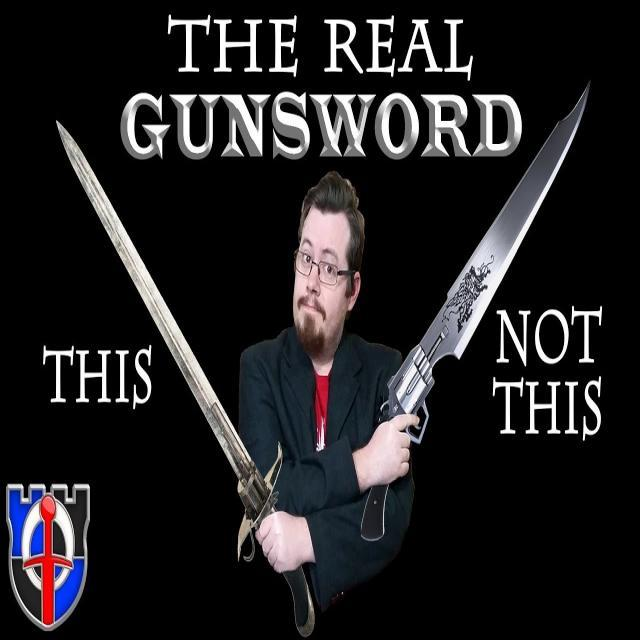knife: (386, 65, 598, 397)
sword: (44, 95, 323, 637)
